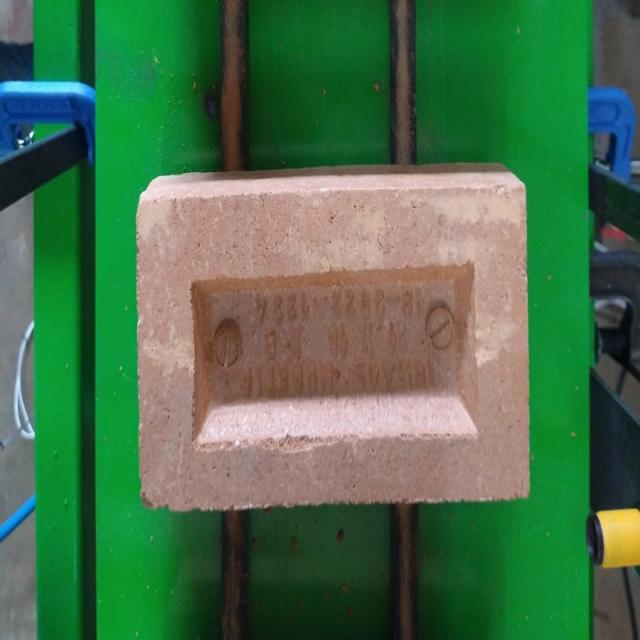bricks: (138, 161, 530, 510)
